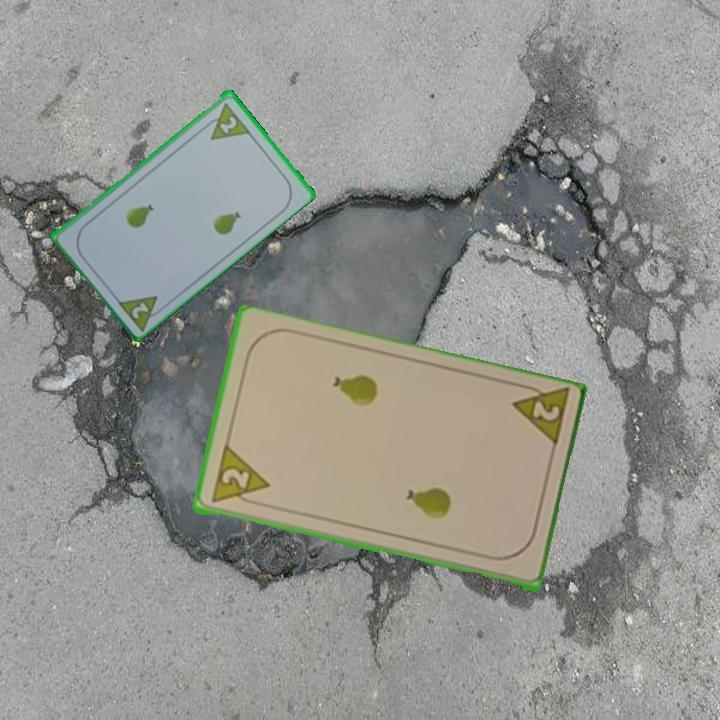2p: (507, 380, 572, 452), (207, 444, 272, 508), (216, 112, 240, 136), (128, 298, 152, 321)
